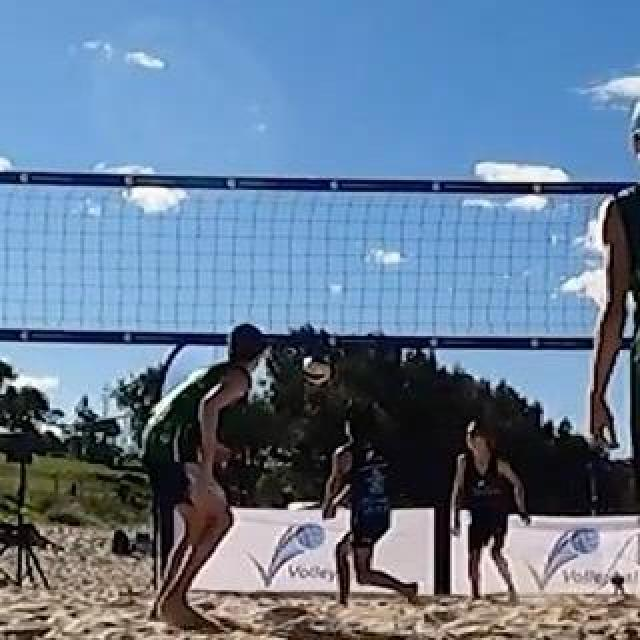volleyball: (299, 353, 331, 385)
